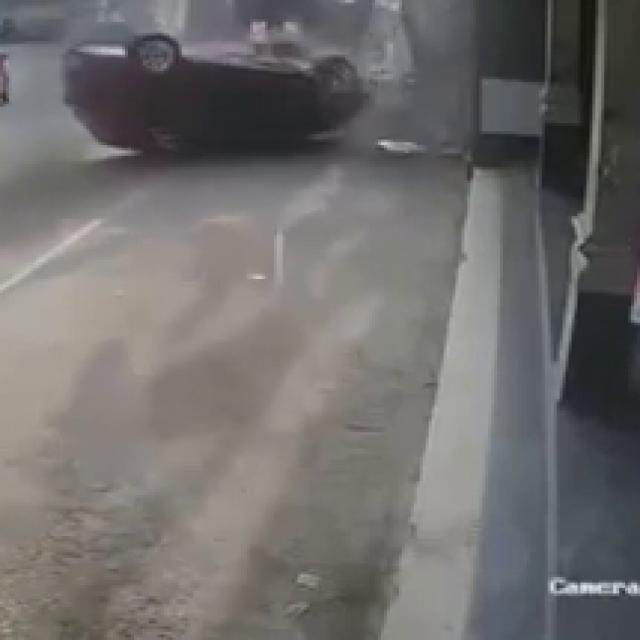accident: (38, 3, 382, 160)
